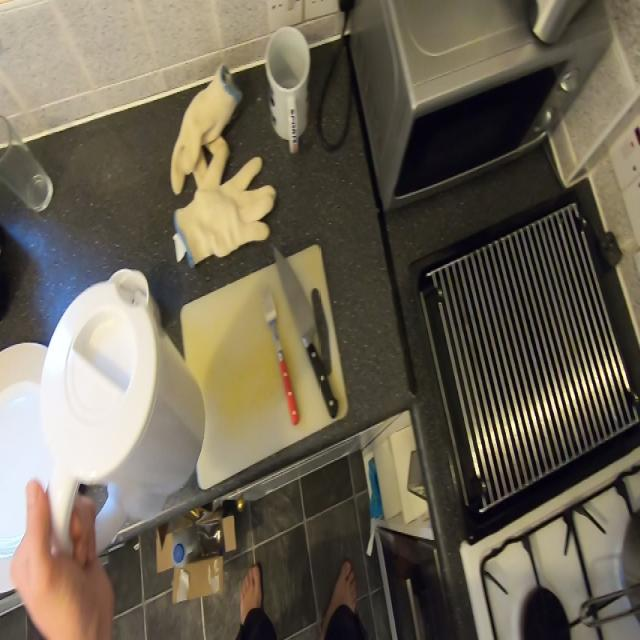cutting board: (176, 268, 372, 487)
fork: (255, 287, 300, 428)
glove: (160, 80, 272, 245)
hob: (475, 515, 640, 640)
kettle: (31, 275, 205, 504)
knife: (276, 235, 349, 424)
left hand: (8, 481, 121, 640)
mug: (264, 18, 314, 150)
